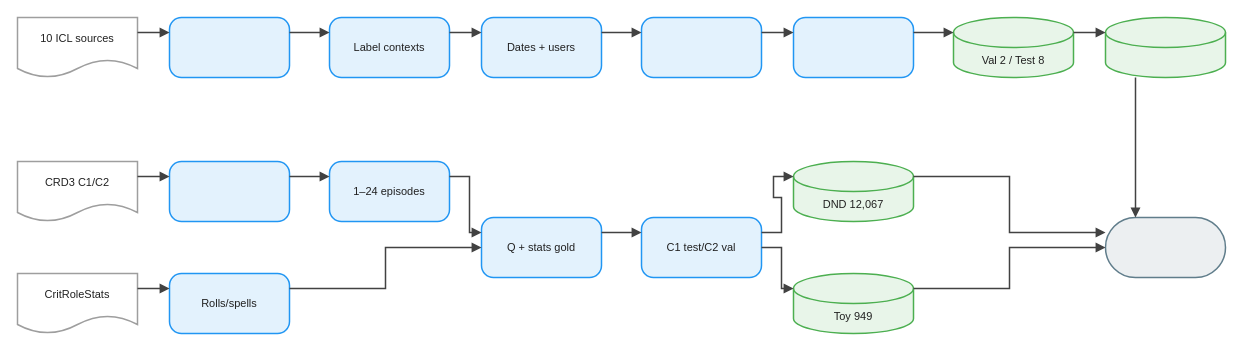
The diagram is 1244 pixels wide and 352 high, and some of its shapes have lost their labels. Each missing label, with the box of its shape:
13L × 50/set: (792, 16, 914, 78)
2-model filter: (168, 16, 290, 78)
3 task groups: (640, 16, 762, 78)
Pinned HF: (1104, 216, 1226, 278)
Speaker lines: (168, 160, 290, 222)
Synth 6,500: (1104, 16, 1226, 78)
